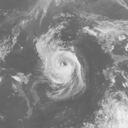cyclone: (34, 37, 85, 99)
